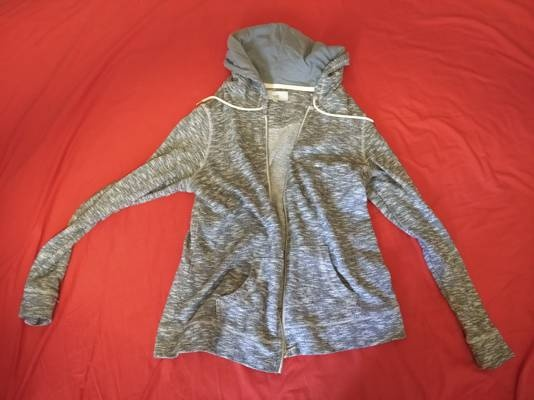Hoodie: (36, 14, 521, 390)
